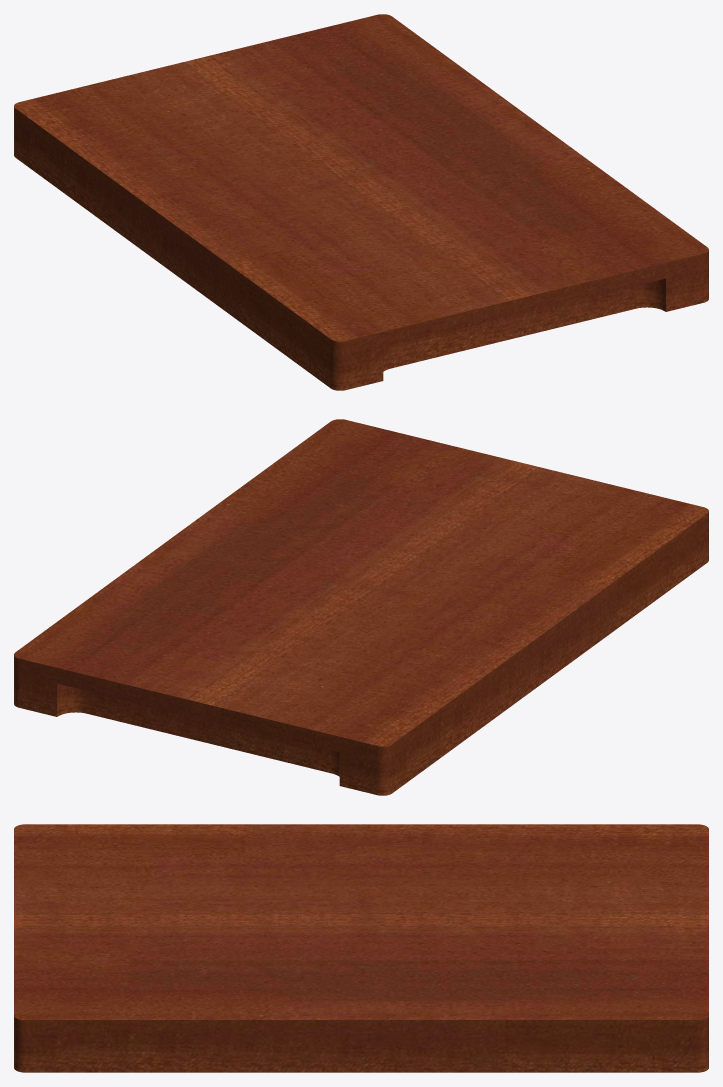
File: tabla-de-picar-algarrobo-talla-s.glb
3 views of the same model, one above another, from view 1: azimuth 30°, elevation 25°; view 2: azimuth 150°, elevation 25°; view 3: azimuth 270°, elevation 25° (orthographic). The views are drawn at different scales.
Size of the model in its own units: 0.2 by 0.025 by 0.3.
2 materials, 2 textured.
